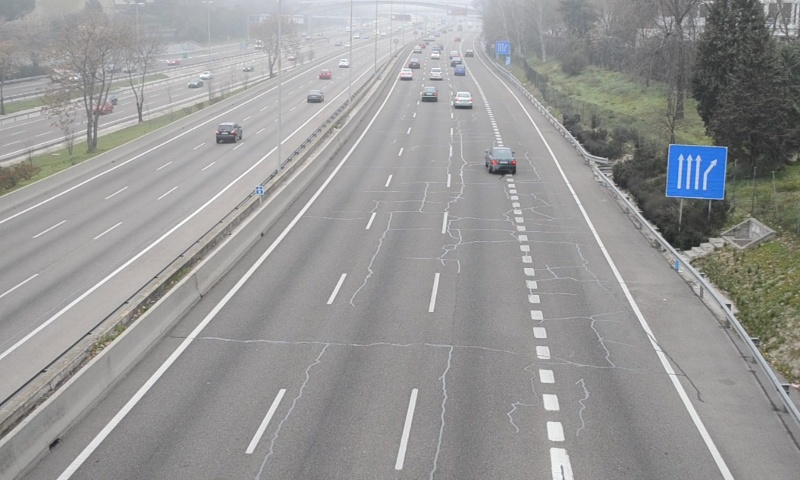car: (485, 146, 517, 172), (452, 90, 473, 110), (420, 84, 438, 102)
